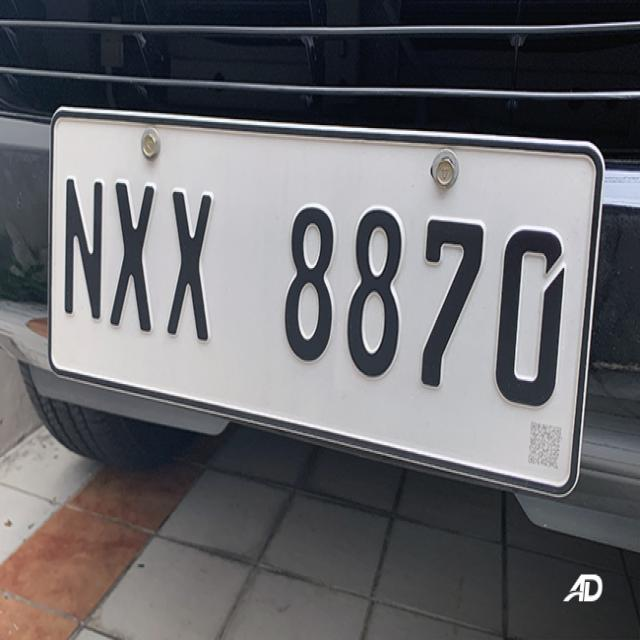number: (48, 107, 604, 496)
